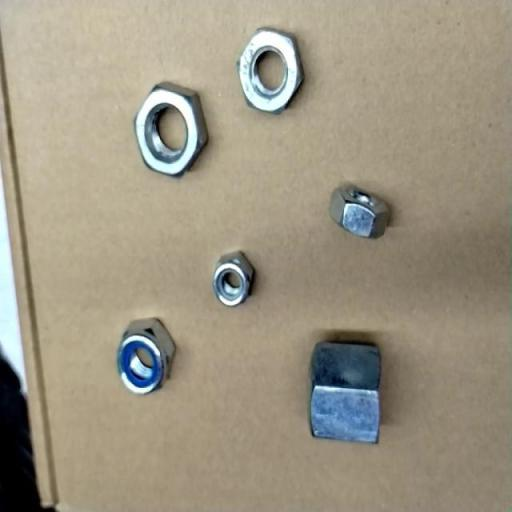Nut: (307, 329, 383, 445), (132, 81, 209, 179), (237, 27, 305, 114), (115, 317, 177, 395), (329, 184, 392, 242), (209, 249, 257, 308)
